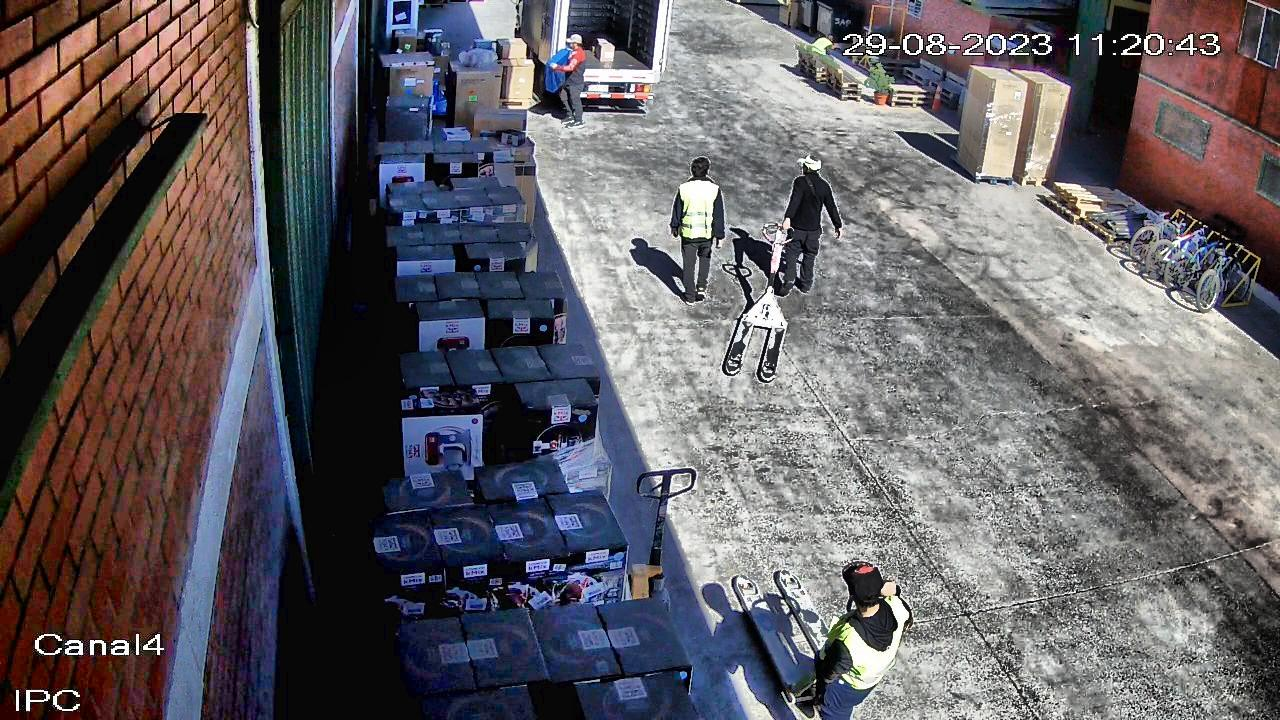con-casco: (795, 152, 827, 176), (563, 31, 585, 48)
con-chaleco: (816, 592, 917, 694), (674, 180, 723, 243), (810, 37, 835, 57)
persona: (774, 552, 923, 720), (757, 148, 848, 311), (660, 145, 737, 309), (544, 29, 592, 133), (802, 31, 841, 83)
sin-casco: (830, 556, 895, 612), (687, 156, 714, 179), (825, 32, 837, 42)
sin-chaleco: (782, 175, 831, 233), (558, 47, 590, 86)
